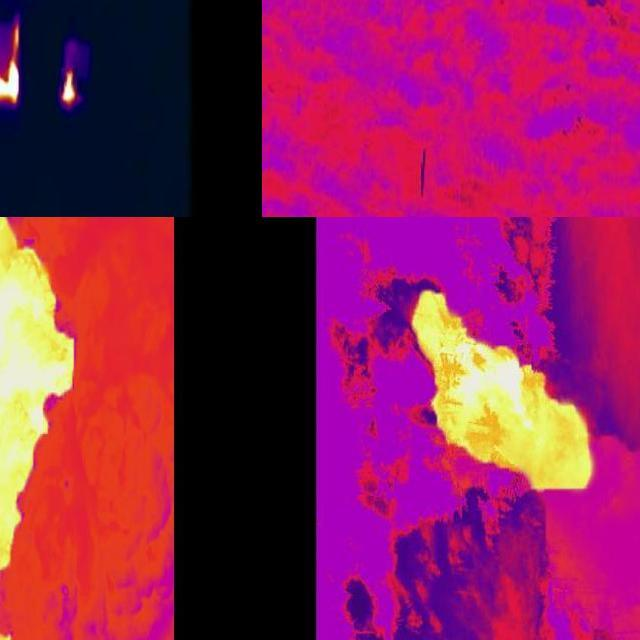fire: (412, 288, 599, 497), (1, 220, 79, 580), (1, 6, 21, 110), (62, 69, 78, 110)
